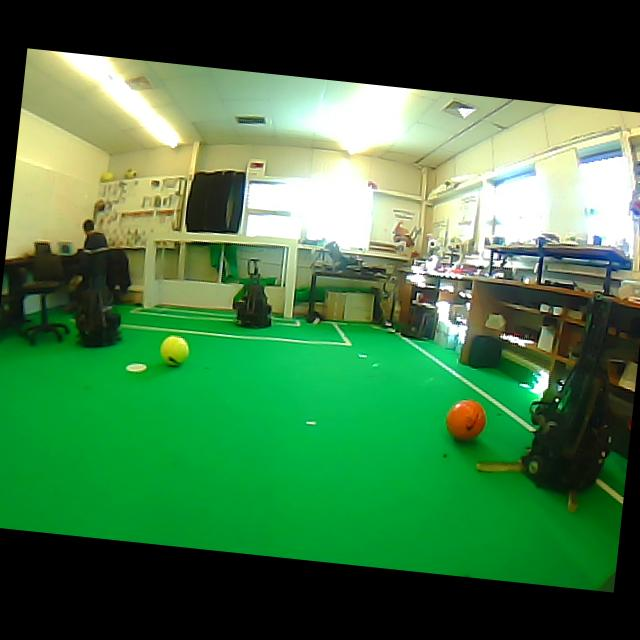ball: (446, 399, 486, 440), (159, 334, 188, 366), (100, 171, 114, 181), (124, 168, 135, 179)
goal: (282, 239, 297, 317), (142, 238, 157, 307)
robot: (521, 295, 611, 491), (75, 275, 121, 346), (234, 258, 270, 327)
